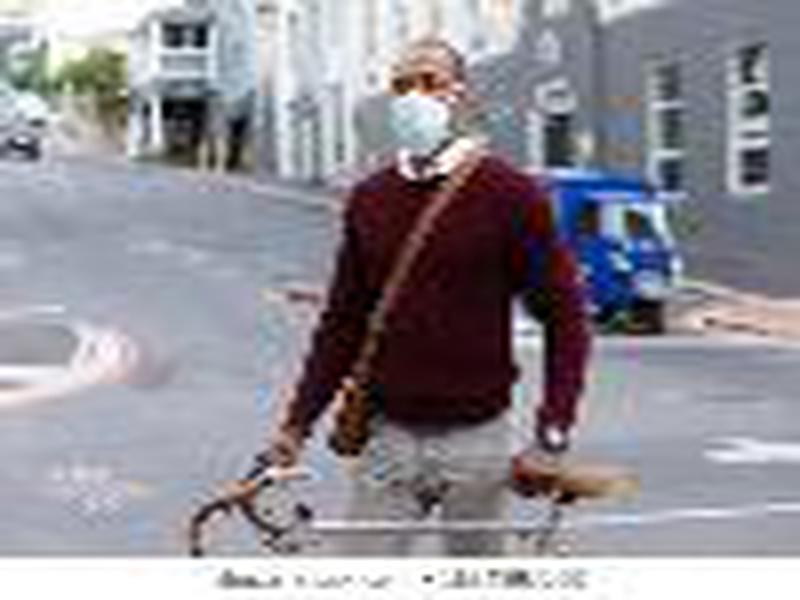with_mask: (385, 40, 468, 163)
